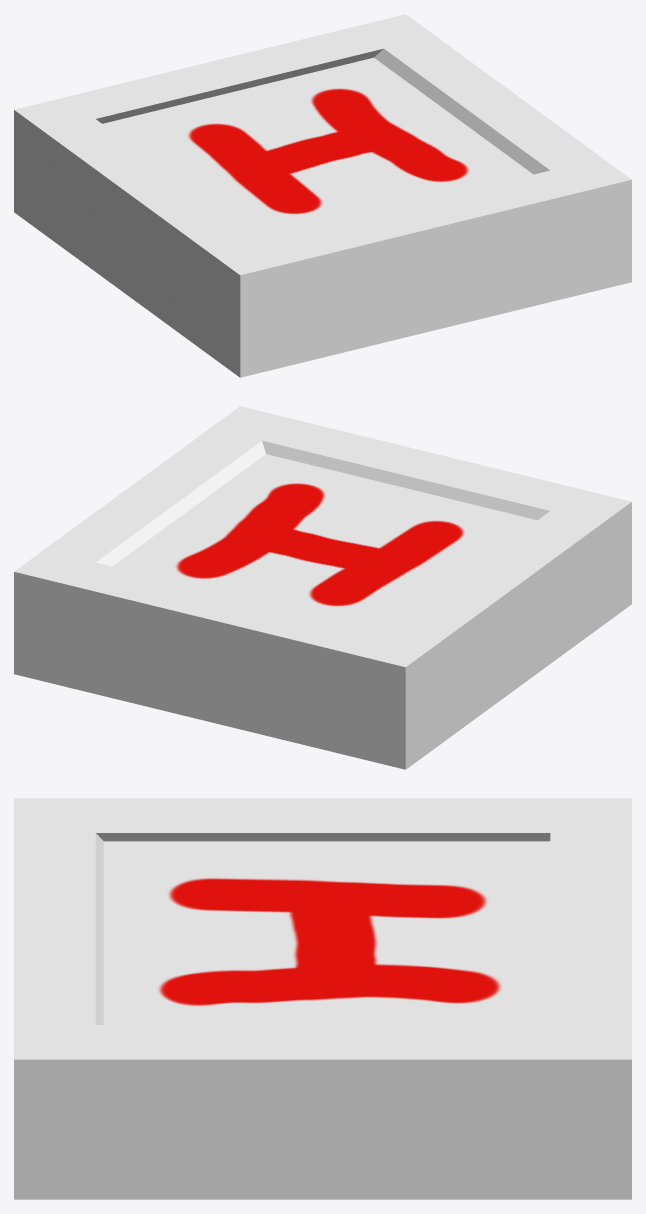
The model's file is healthpack.glb.
3 renders of one model, top to bottom at view 1: azimuth 30°, elevation 25°; view 2: azimuth 150°, elevation 25°; view 3: azimuth 270°, elevation 25°, orthographic. The views are drawn at different scales.
Visible parts, largest first — view 1: Cube; view 2: Cube; view 3: Cube.
Boxes of the visible parts, x1=… form: Cube: x1=14, y1=14, x2=631, y2=377; Cube: x1=14, y1=406, x2=631, y2=769; Cube: x1=14, y1=798, x2=631, y2=1199.
Size of the model in its own units: 2 by 0.5 by 2.
Materials: 1 (1 with a texture image).
